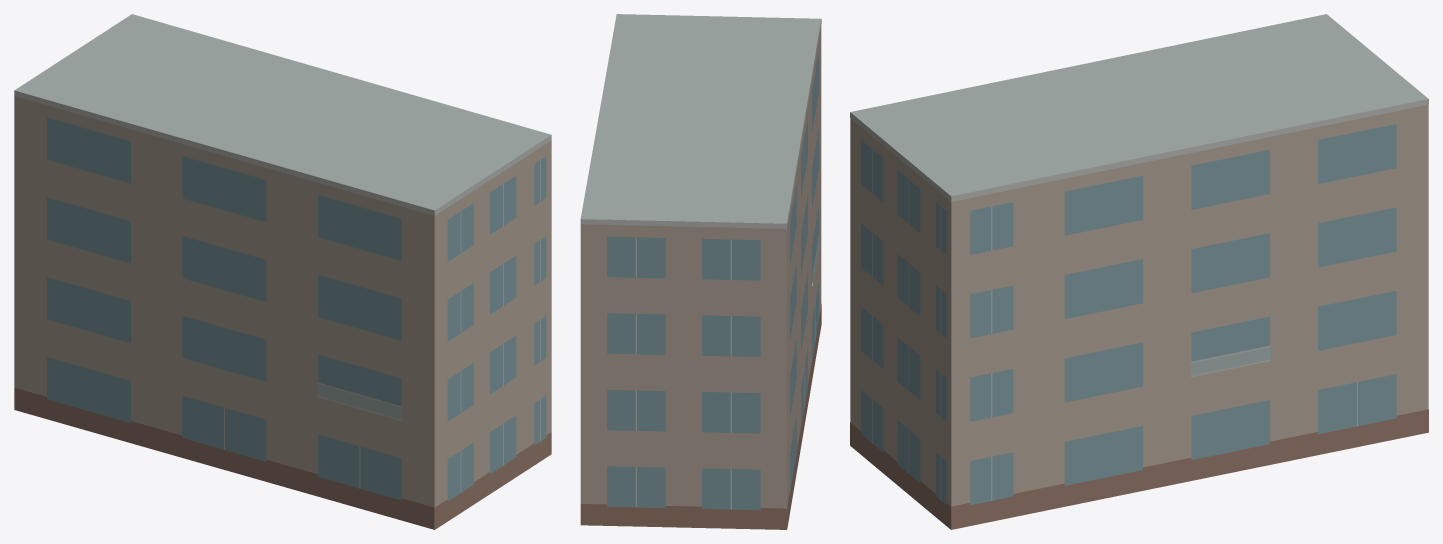
The model's file is survey-upis-32641487.glb.
3 views of the same model, side by side, from view 1: azimuth 30°, elevation 25°; view 2: azimuth 150°, elevation 25°; view 3: azimuth 270°, elevation 25° (orthographic). The views are drawn at different scales.
Visible parts, largest first — view 1: survey-upis-32641487.tmp; view 2: survey-upis-32641487.tmp; view 3: survey-upis-32641487.tmp.
Boxes of the visible parts, x1,y1,x2,y2 form: survey-upis-32641487.tmp: (14, 14, 551, 529); survey-upis-32641487.tmp: (580, 14, 821, 529); survey-upis-32641487.tmp: (850, 14, 1428, 529).
Bounding box in the file's own units: 16.82 × 14.35 × 22.57.
